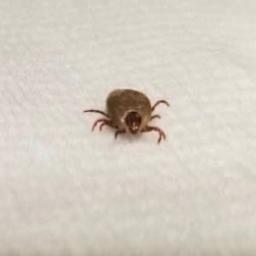Rhipicephalus sanguineus: (82, 89, 169, 145)
